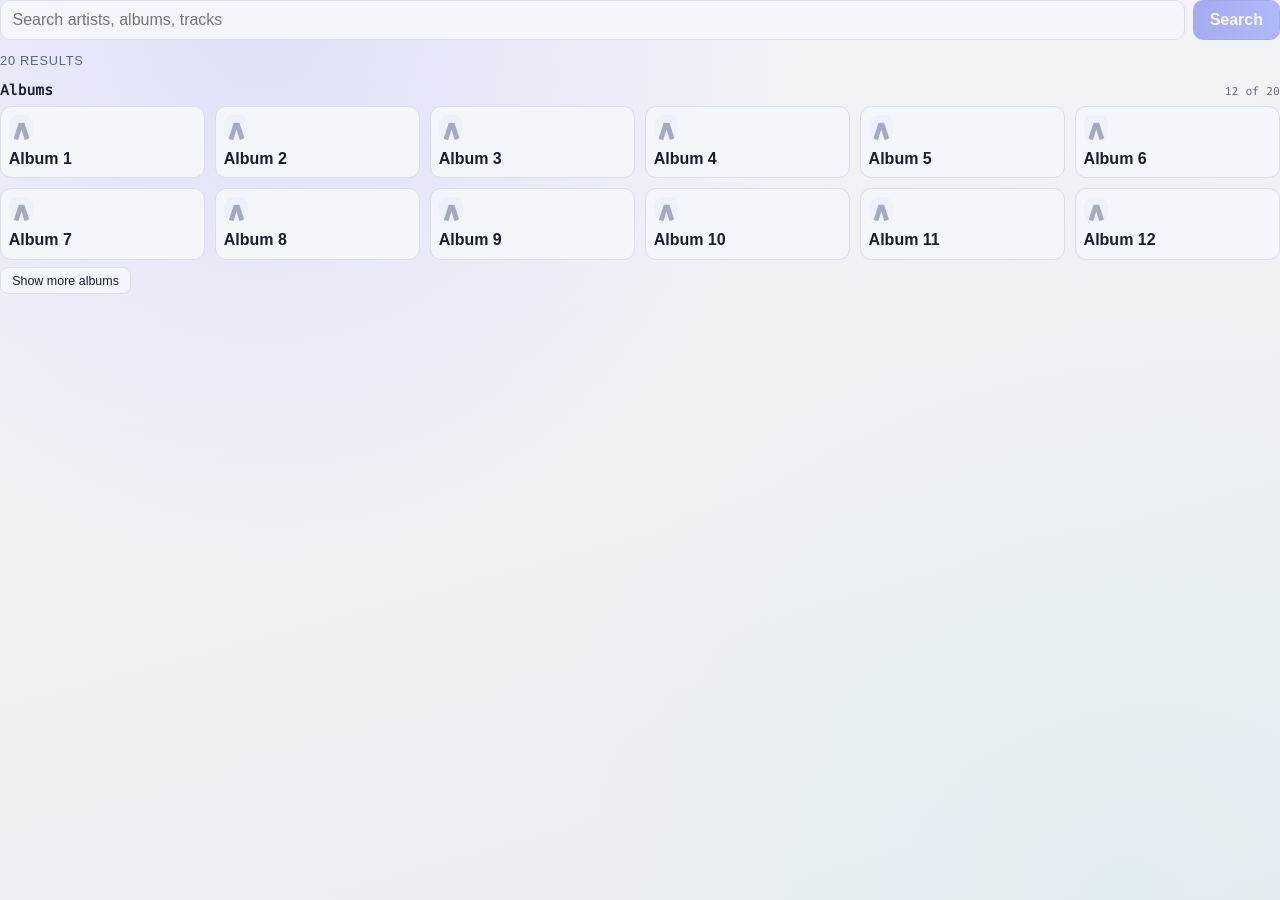
Search component › paginates per group at 12 with a "Show more" button
Check: the text "Album 1" is shown, box [9,149,72,169]
Check: the text "Album 12" is shown, box [1084,230,1156,251]
Show more bumps to 24 (capped at 20)
Click the button "Show more albums".
click(66, 281)  # box [0,267,131,294]
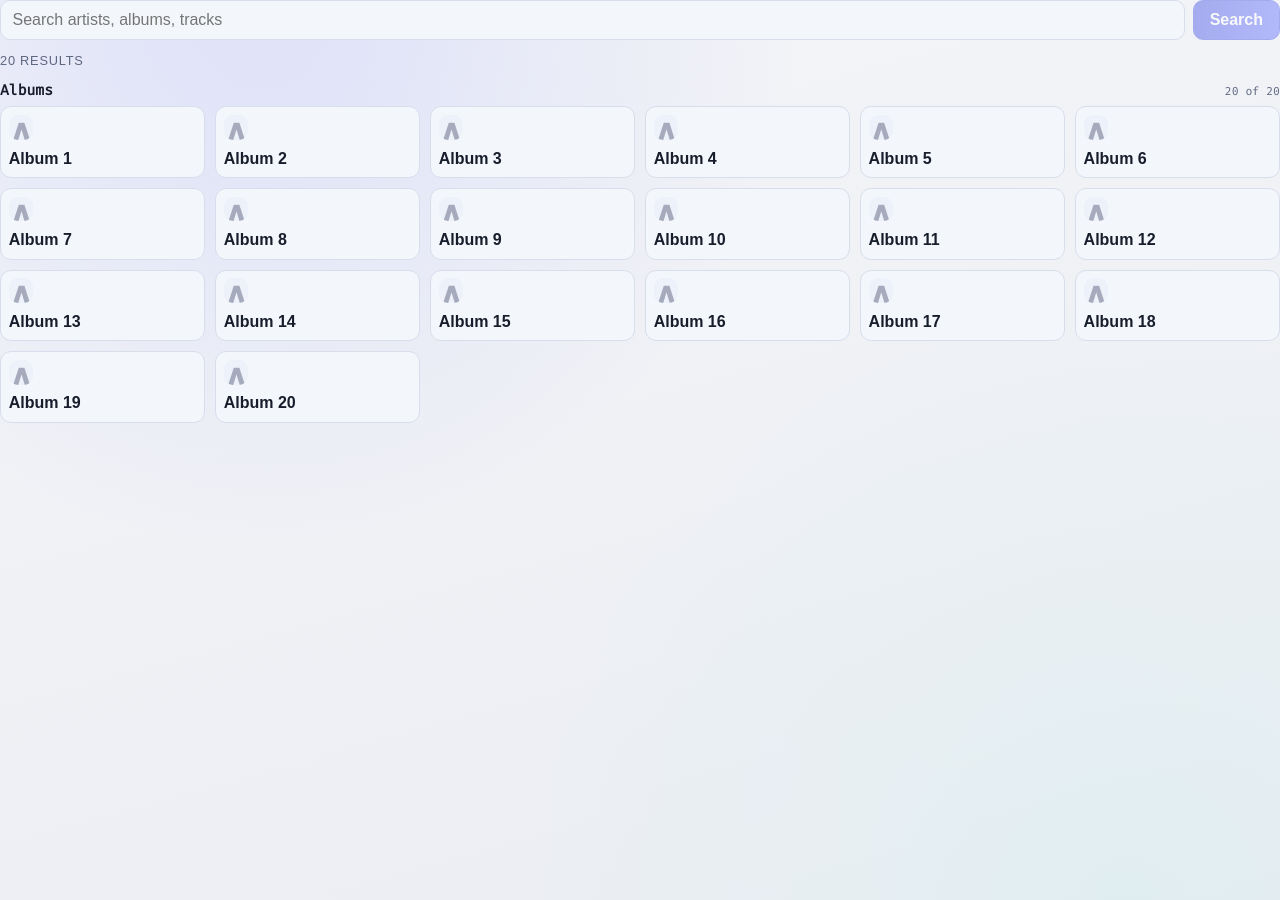
Check: the text "Album 20" is shown, box [224,393,296,414]
Check: the button "Show more albums" is gone
